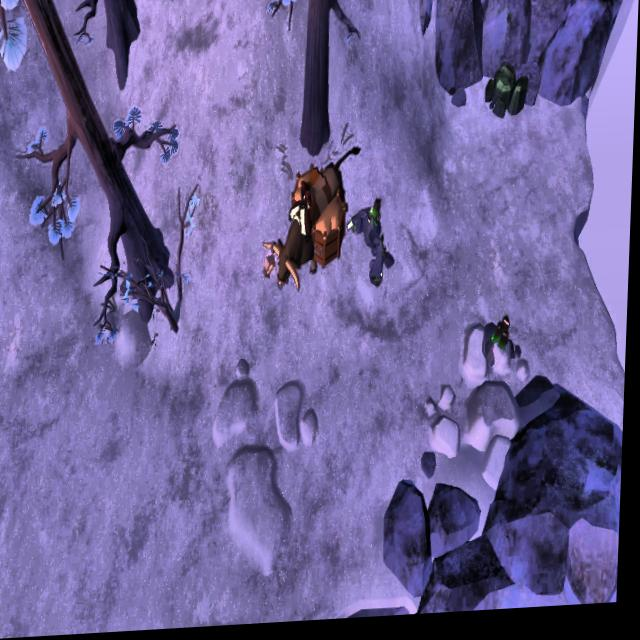ore_t3: (494, 322, 516, 362)
rock_t3: (483, 66, 530, 131)
